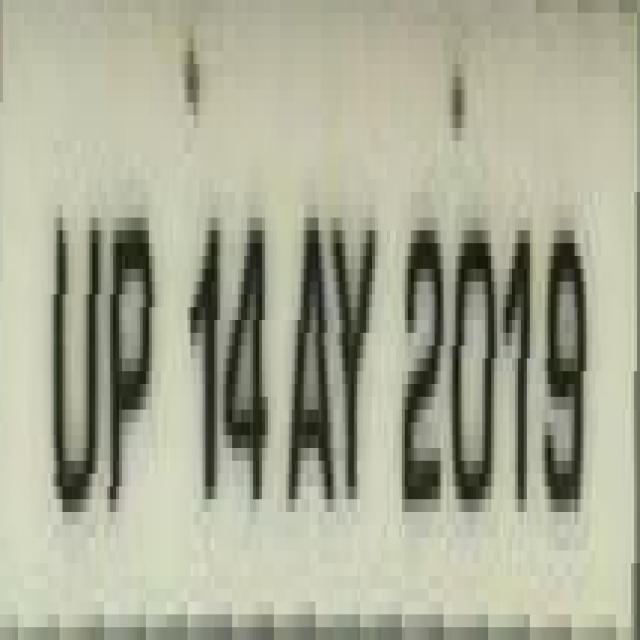license_plate: (5, 25, 604, 640)
